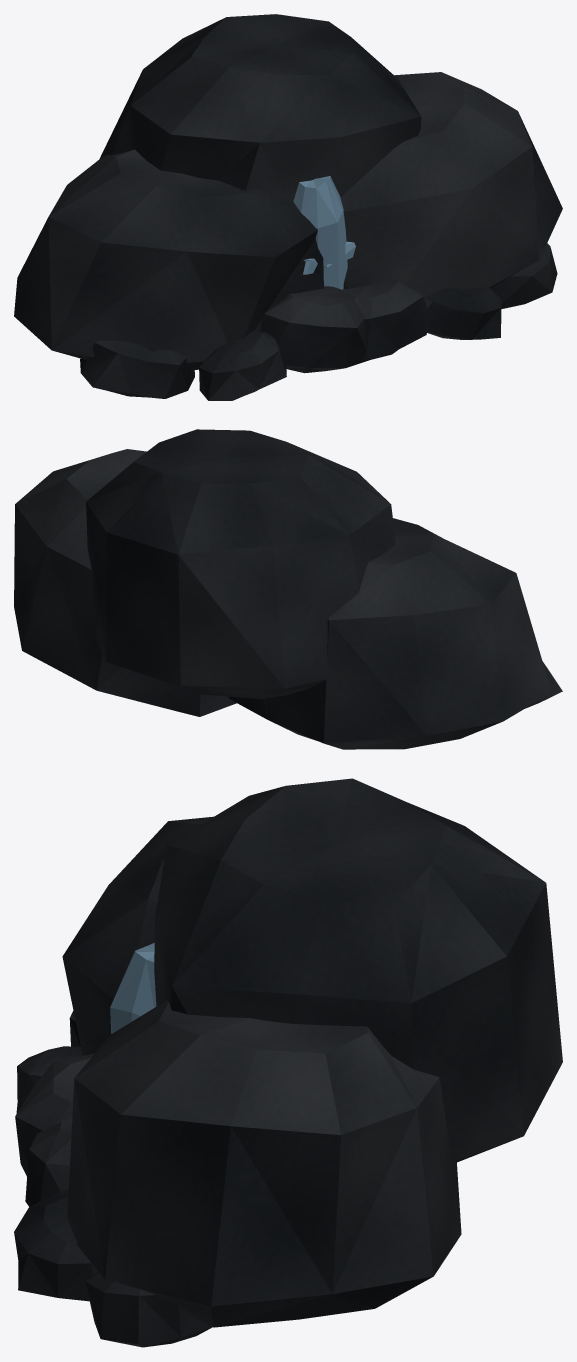
The model's file is Superdense_Deposit_A.glb.
The picture shows the model from 3 angles, top to bottom: view 1: azimuth 30°, elevation 25°; view 2: azimuth 150°, elevation 25°; view 3: azimuth 270°, elevation 25°; orthographic projection. The views are drawn at different scales.
Visible parts, largest first — view 1: Superdense_Deposit_A_LOD0; view 2: Superdense_Deposit_A_LOD0; view 3: Superdense_Deposit_A_LOD0.
Part boxes in pixels (x1,y1,x2,y2): Superdense_Deposit_A_LOD0: [14, 14, 562, 400]; Superdense_Deposit_A_LOD0: [14, 429, 562, 749]; Superdense_Deposit_A_LOD0: [14, 778, 562, 1347].
Size of what is drawn, in the model's own units: 4.09 by 1.97 by 2.52.
2 materials, 1 textured.
